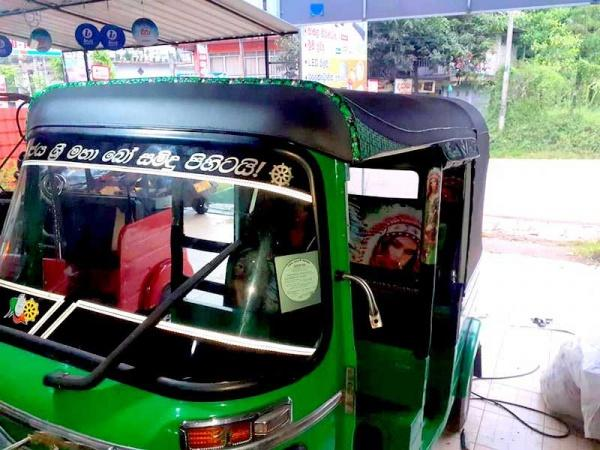threewheel: (1, 77, 492, 450)
